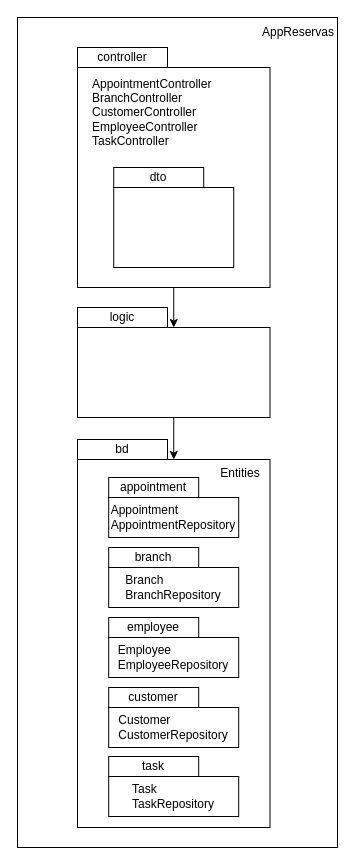
Some shapes in this 355 by 865 pixel diagram are drawn without their labels. The centre of each missing label's shape, as x and y in pixels:
"AppointmentDTO BranchDTO CustomerDTO EmployeeDTO TaskDTO" belongs at pixel 173 227.
"AppointmentLogic BranchLogic CustomerLogic EmployeeLogic TaskLogic" belongs at pixel 173 372.
